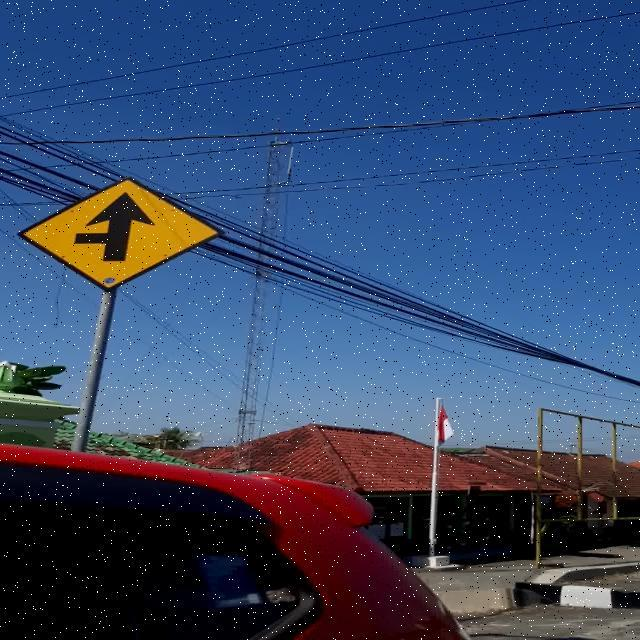Persimpangan 3 Prioritas Kiri: (17, 176, 225, 292)
